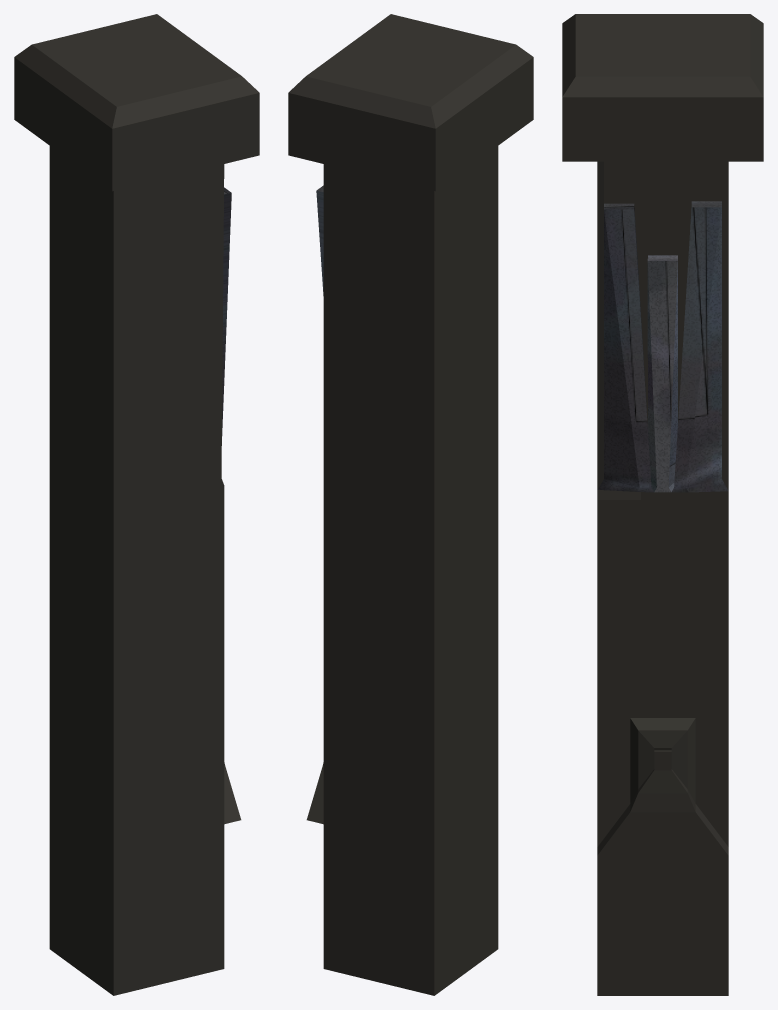
File: pillar.fbx
3 renders of one model, left to right at view 1: azimuth 30°, elevation 25°; view 2: azimuth 150°, elevation 25°; view 3: azimuth 270°, elevation 25°, orthographic. The views are drawn at different scales.
Visible parts, largest first — view 1: final; view 2: final; view 3: final.
Part boxes in pixels (x1,y1,x2,y2): final: [14, 14, 259, 995]; final: [288, 14, 533, 995]; final: [562, 14, 763, 995].
Size of the model in its own units: 58.15 by 338 by 66.9.
Materials: 2 (1 with a texture image).
